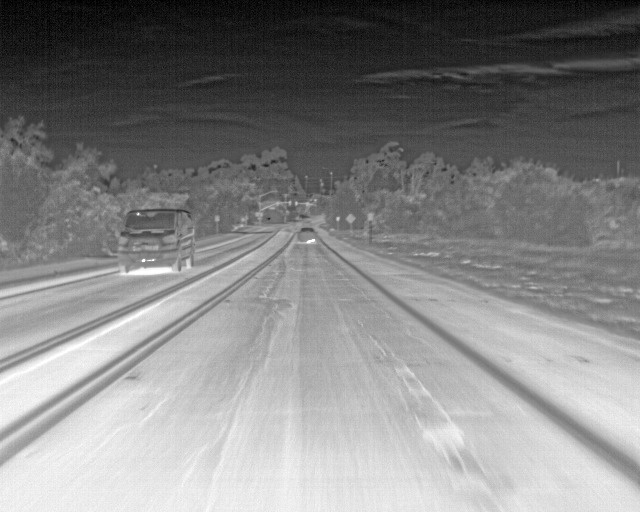vehicle: (115, 207, 196, 279)
